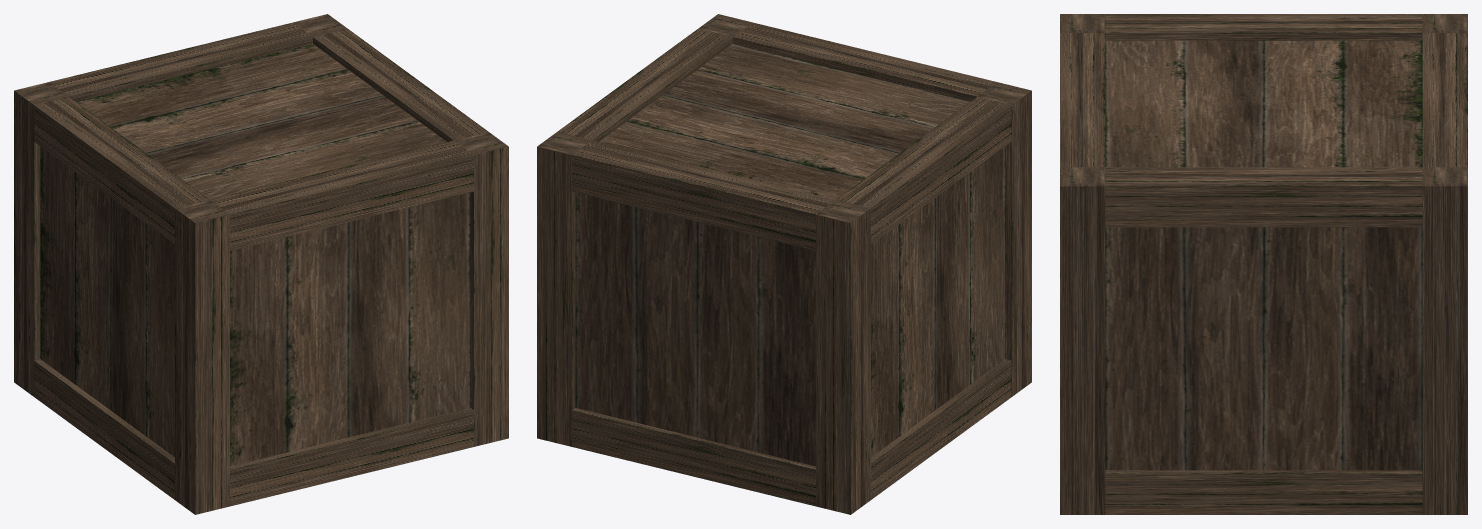
Rendered from wood_box_closed.glb.
3 renders of one model, left to right at view 1: azimuth 30°, elevation 25°; view 2: azimuth 150°, elevation 25°; view 3: azimuth 270°, elevation 25°, orthographic. The views are drawn at different scales.
Visible parts, largest first — view 1: Cube.010; view 2: Cube.010; view 3: Cube.010.
Boxes of the visible parts, x1,y1,x2,y2 form: Cube.010: [14, 14, 508, 514]; Cube.010: [537, 14, 1031, 514]; Cube.010: [1060, 14, 1467, 514].
Size of the model in its own units: 0.8361 by 0.7432 by 0.8361.
Materials: 1 (1 with a texture image).
